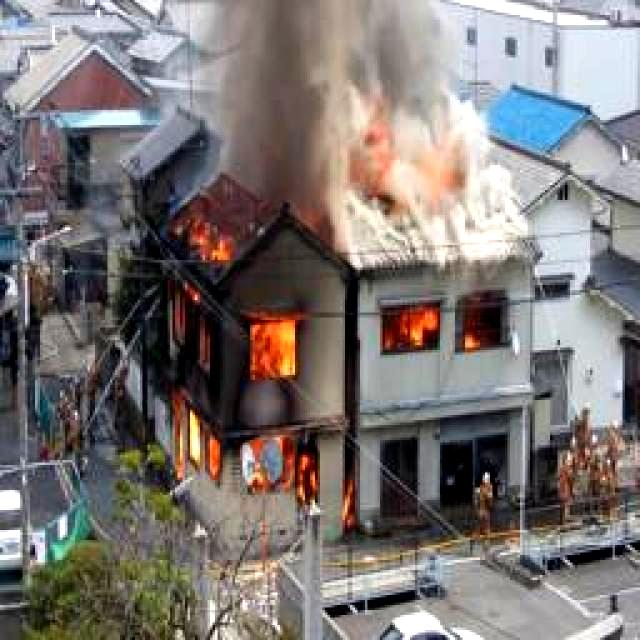fire: (155, 198, 341, 510), (392, 294, 504, 350)
